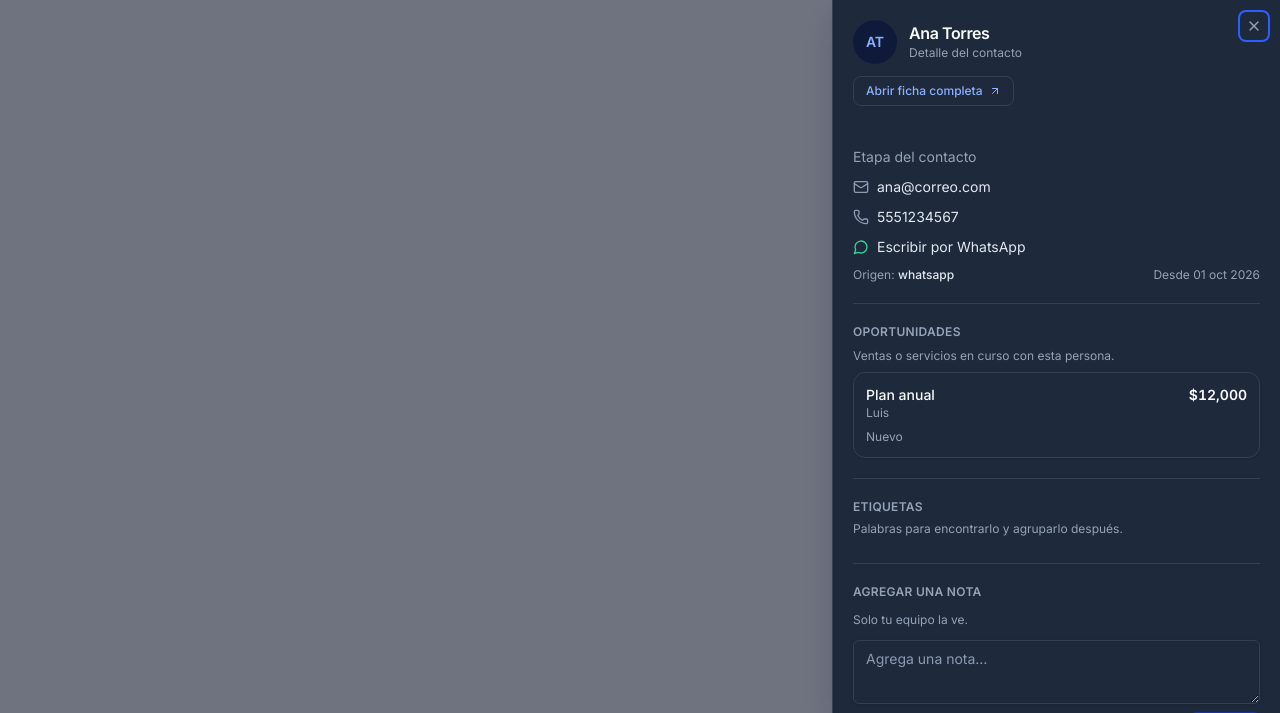
Test: LeadDetailPanel › al guardar una nota la inserta al inicio de la actividad y confirma
This screenshot has width=1280, height=713.
Expected: the heading "Ana Torres" is shown, [909,23,990,43]
Type "Llamar mañana" into the text box with placeholder "Agrega una nota…" at [1056, 672], box [853,640,1260,704]
(page scrolled)
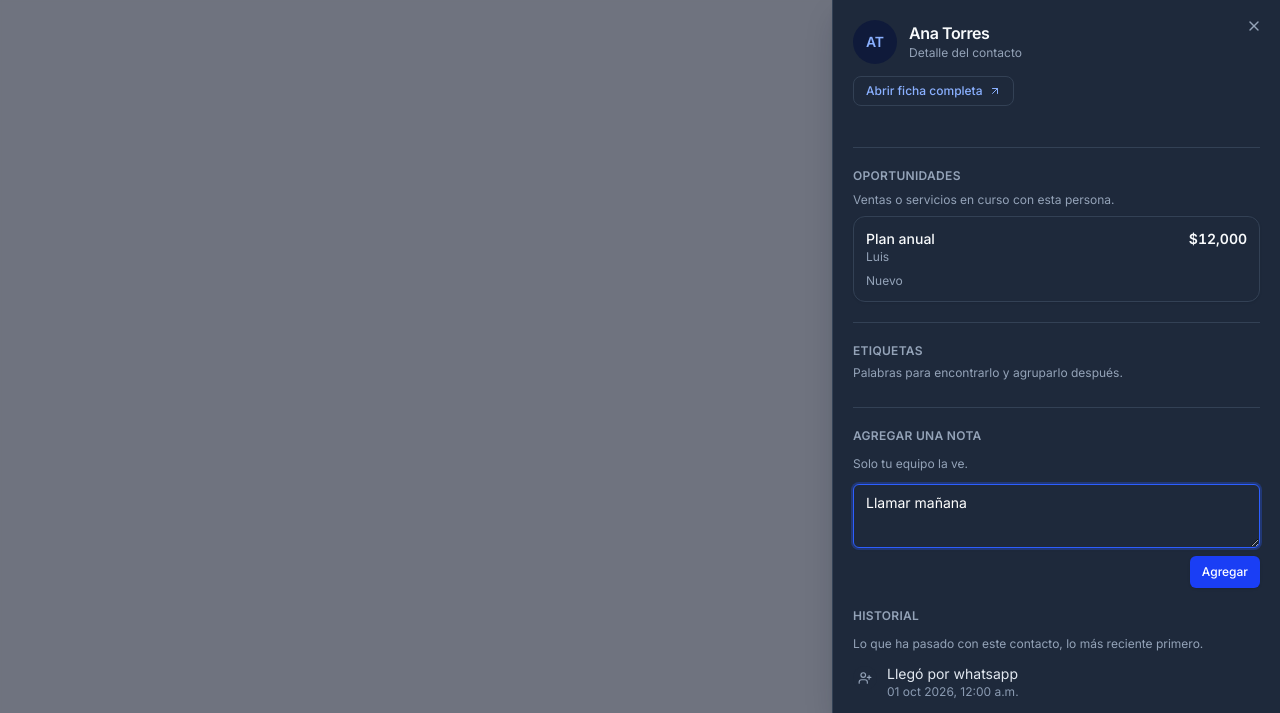
Click the button "Agregar" at [1225, 572], box [1190,556,1260,588]
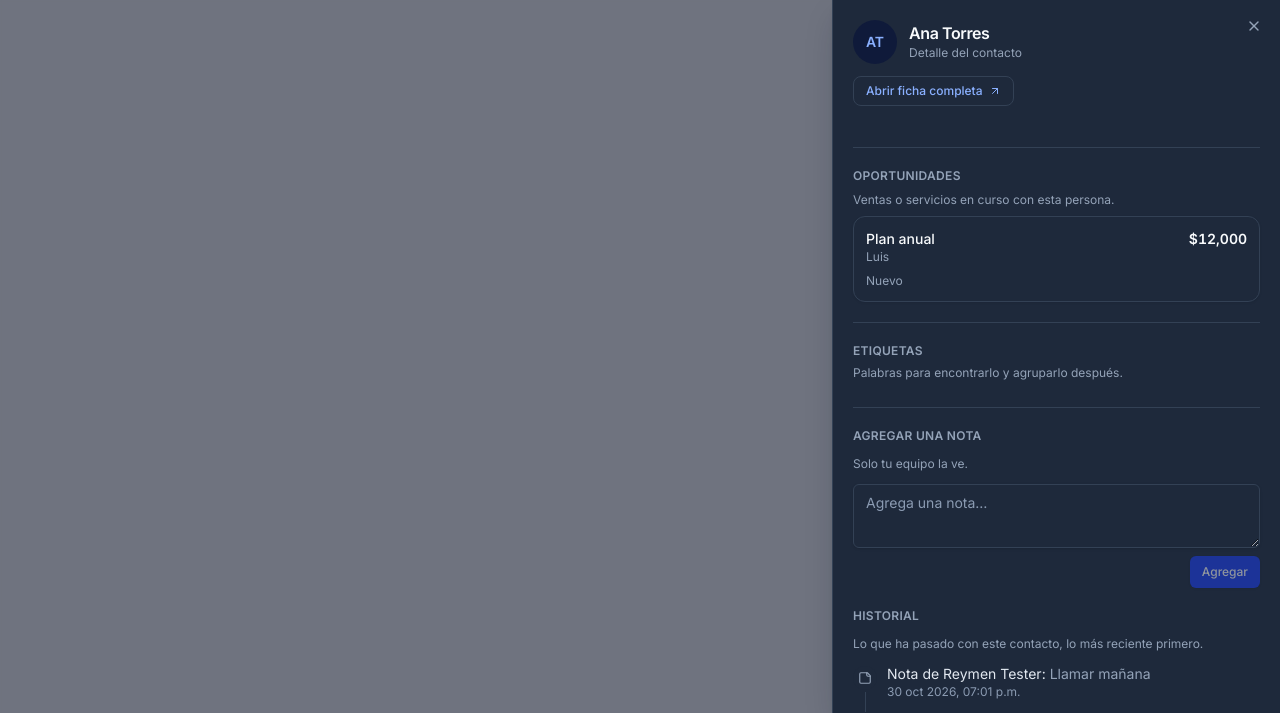
Expected: the list item "Nota de Reymen Tester: Llamar mañana 30 oct 2026, 07:01 p.m." is shown, [853,665,1150,699]
Expected: the text box with placeholder "Agrega una nota…" is empty, [853,484,1260,548]
